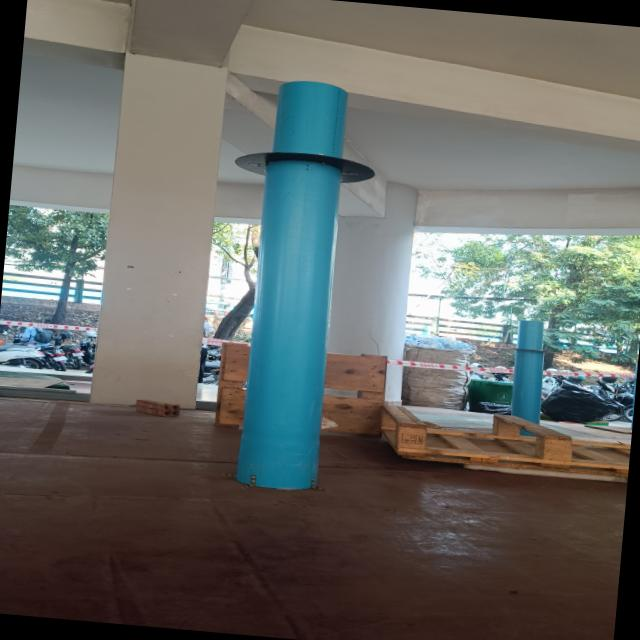pole: (200, 61, 420, 249)
